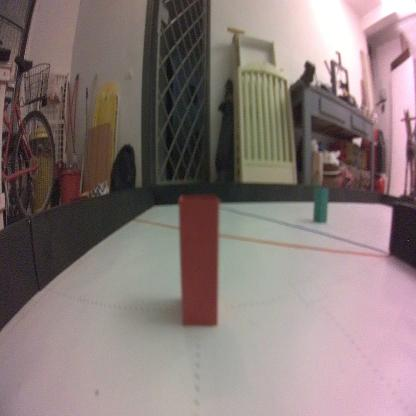green: (312, 185, 330, 224)
red: (177, 192, 220, 330)
